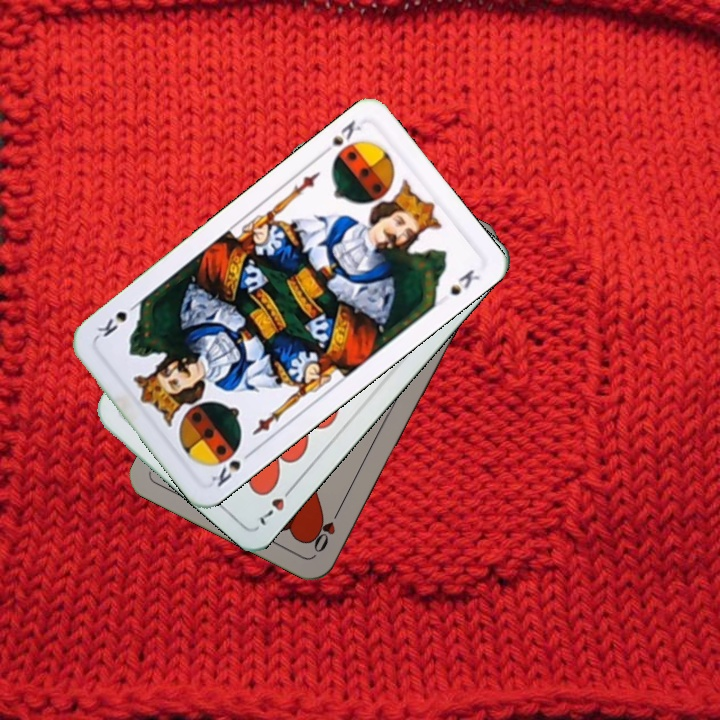H7: (255, 480, 298, 529)
HO: (309, 502, 345, 556)
SK: (207, 442, 257, 490), (318, 116, 364, 159)
